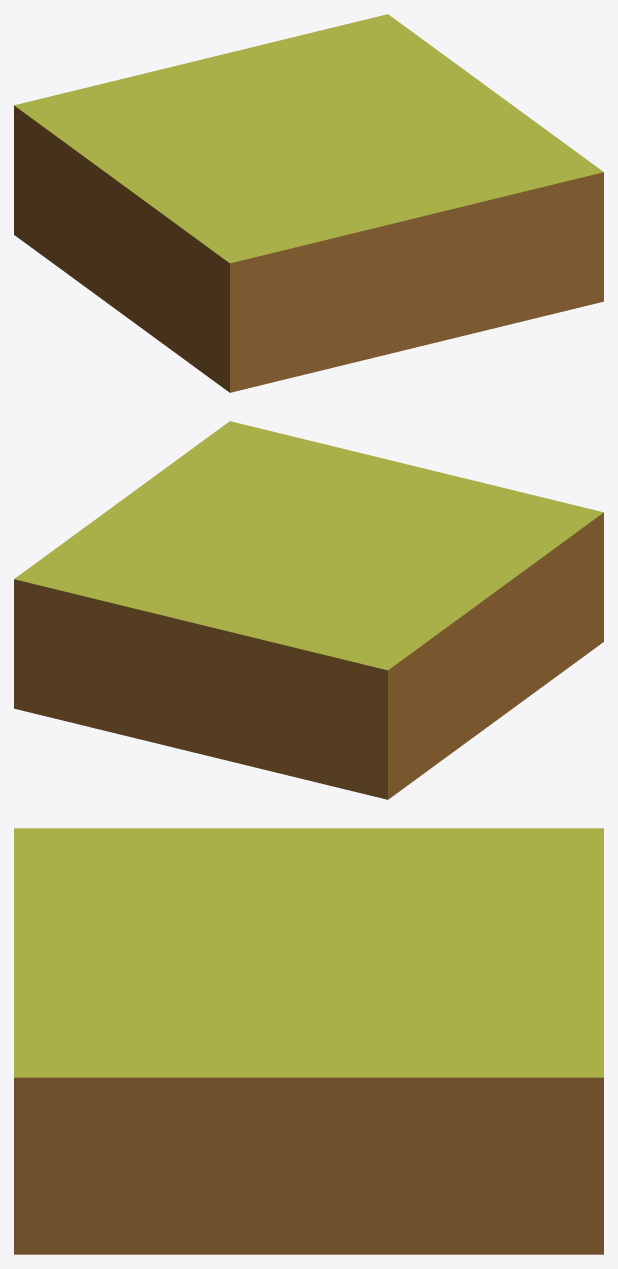
File: floor_crosswalk3.fbx
3 renders of one model, top to bottom at view 1: azimuth 30°, elevation 25°; view 2: azimuth 150°, elevation 25°; view 3: azimuth 270°, elevation 25°, orthographic. The views are drawn at different scales.
Parts seen in each view (by area): view 1: floor_crosswalk3; view 2: floor_crosswalk3; view 3: floor_crosswalk3.
Part boxes in pixels (x1,y1,x2,y2): floor_crosswalk3: [14, 14, 603, 392]; floor_crosswalk3: [14, 421, 603, 799]; floor_crosswalk3: [14, 828, 603, 1254].
Size of the model in its own units: 100 by 100 by 33.07.
